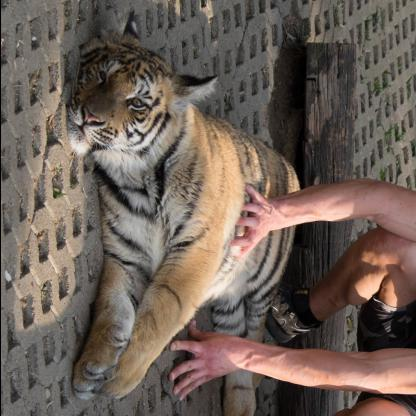tiger: (57, 28, 209, 158)
